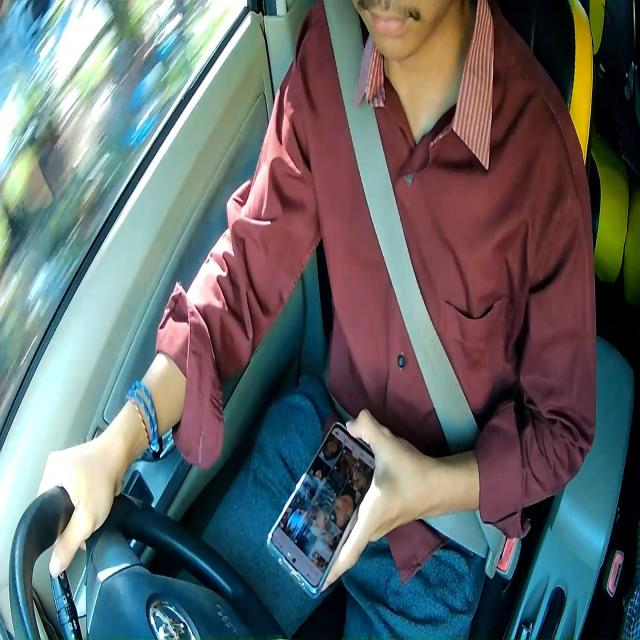phone: (266, 416, 376, 598)
